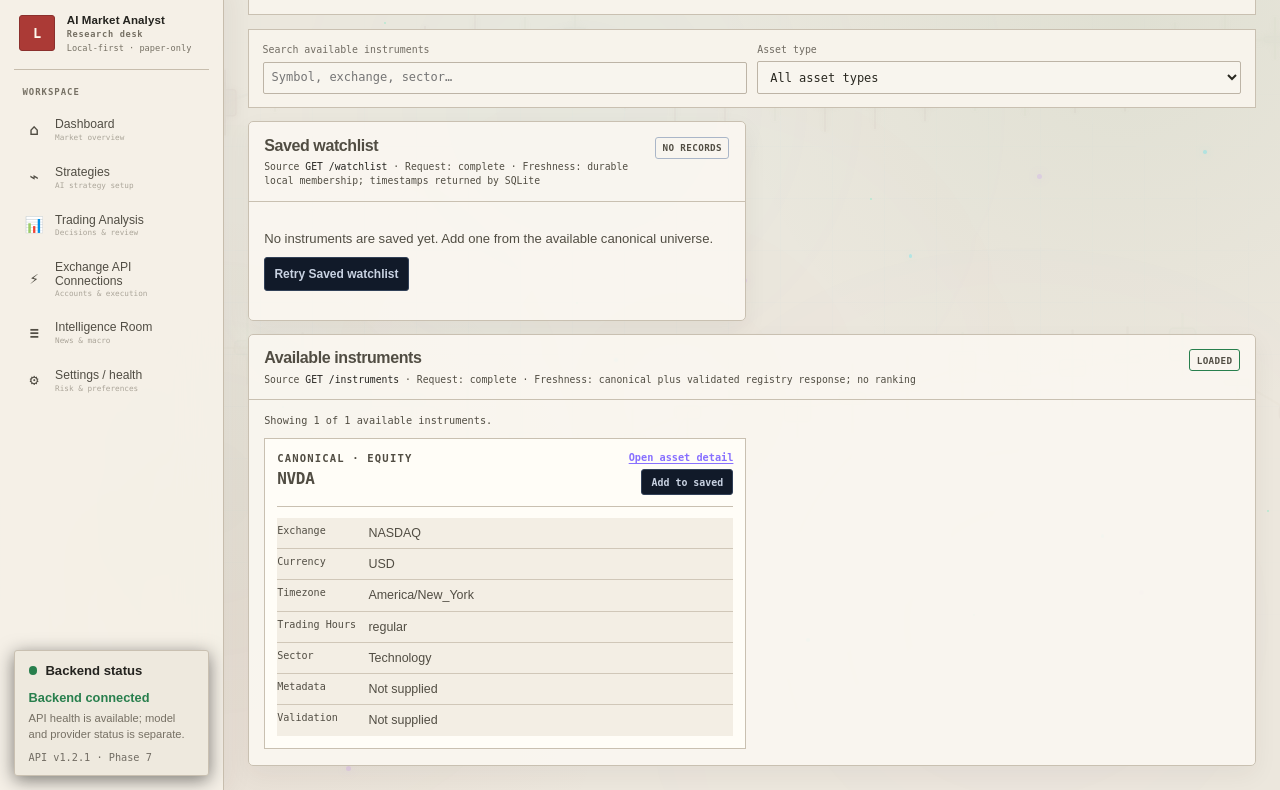
Test case: WatchlistPage › adds and removes saved membership through the typed client and refreshes state
The width and height of the screenshot is (1280, 790).
(page scrolled)
Click the button with aria-label "Add NVDA to saved watchlist" at (687, 482), box [641,469,733,495]
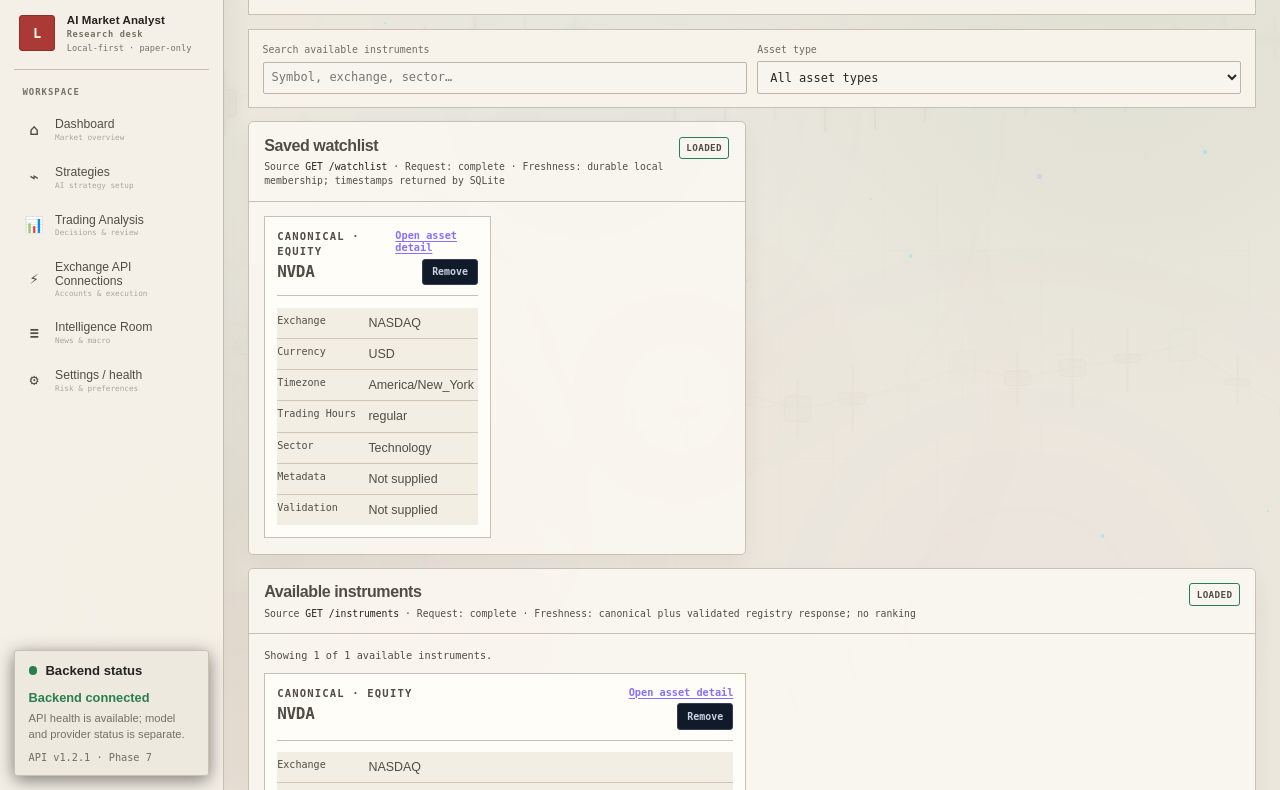
Expected: the button with aria-label "Remove NVDA from saved watchlist" is shown
Click the button with aria-label "Remove NVDA from saved watchlist" at (450, 272), box [422,258,478,285]
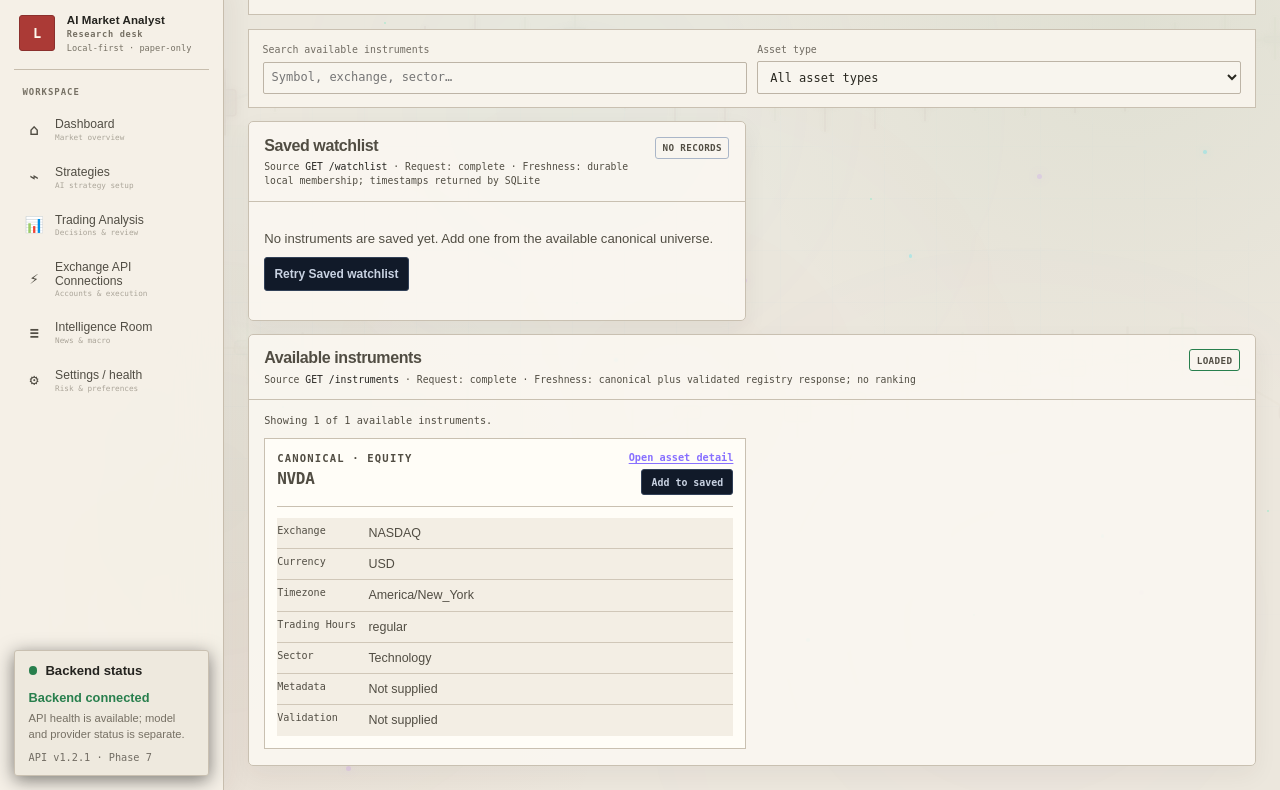
Expected: the text "No instruments are saved yet. Add one from the available canonical universe." is shown, [264,229,713,249]
